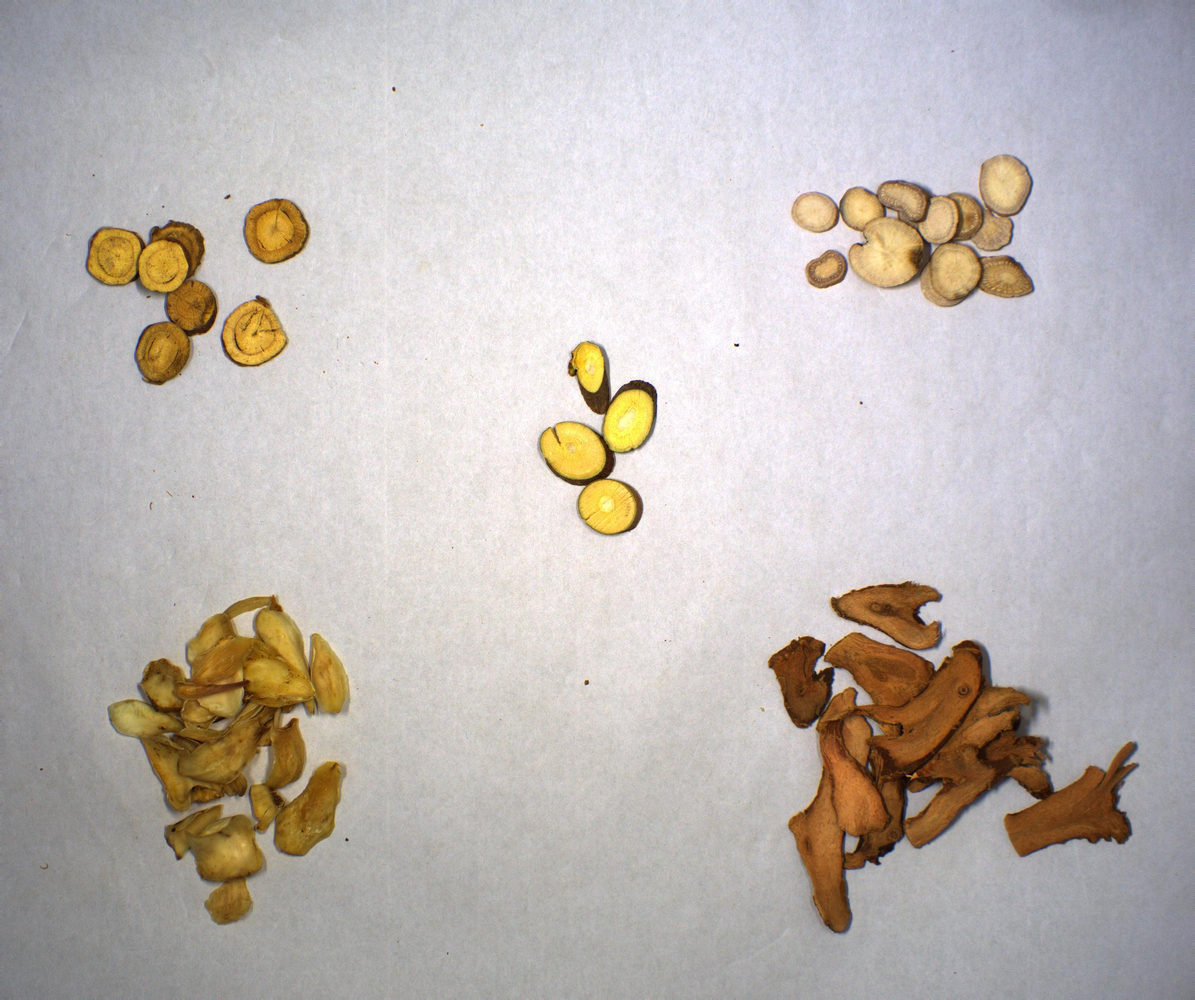baihe: (109, 597, 356, 926)
baishao: (784, 150, 1042, 316)
gancaopian: (83, 197, 312, 387)
gaoliangjiang: (771, 582, 1140, 935)
sangzhi: (532, 340, 662, 540)
